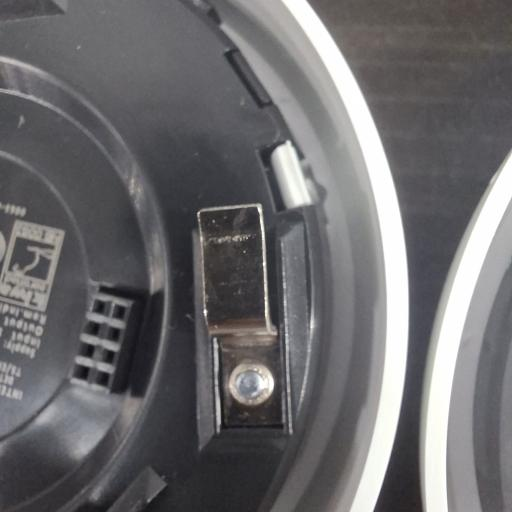yaysiz: (190, 177, 296, 437)
